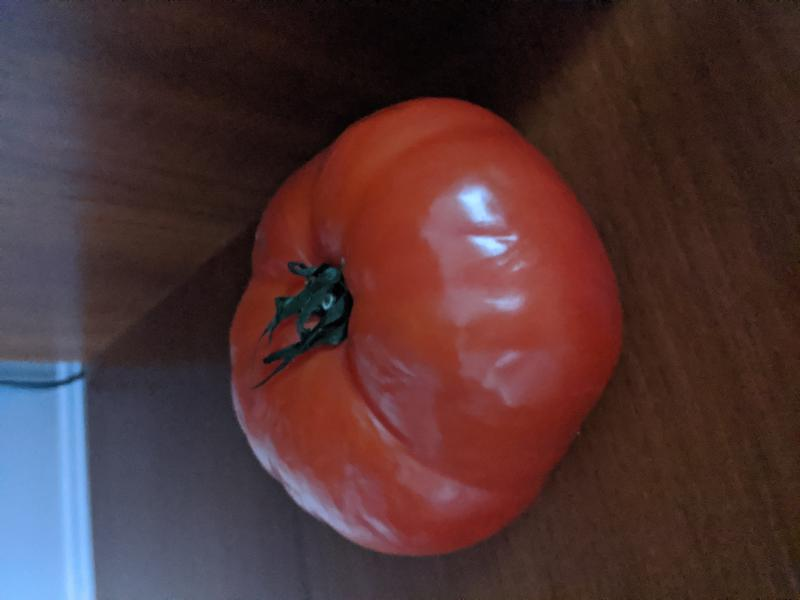tomato: (227, 97, 623, 556)
